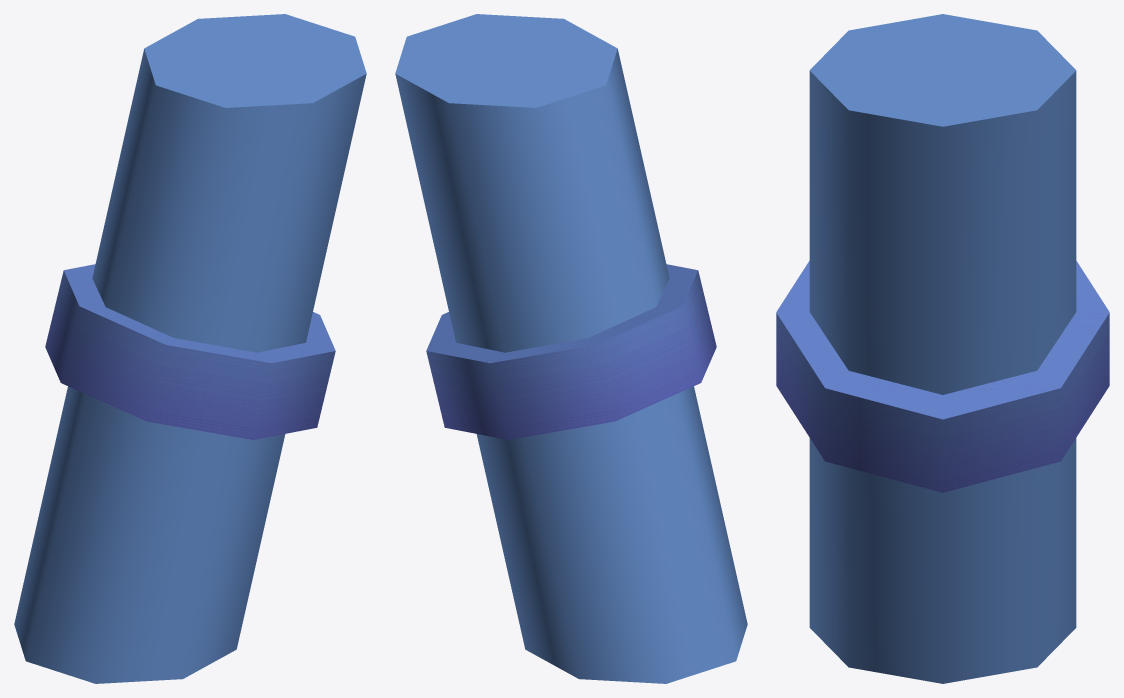
Rendered from support-large-skew.glb.
The picture shows the model from 3 angles, left to right: view 1: azimuth 30°, elevation 25°; view 2: azimuth 150°, elevation 25°; view 3: azimuth 270°, elevation 25°; orthographic projection. The views are drawn at different scales.
Visible parts, largest first — view 1: support-large-skew; view 2: support-large-skew; view 3: support-large-skew.
Part boxes in pixels (bbox=[...]): support-large-skew: bbox=[14, 14, 366, 683]; support-large-skew: bbox=[395, 14, 747, 683]; support-large-skew: bbox=[776, 14, 1109, 683].
Size of the model in its own units: 0.6335 by 1 by 0.4794.
1 material, 1 textured.
